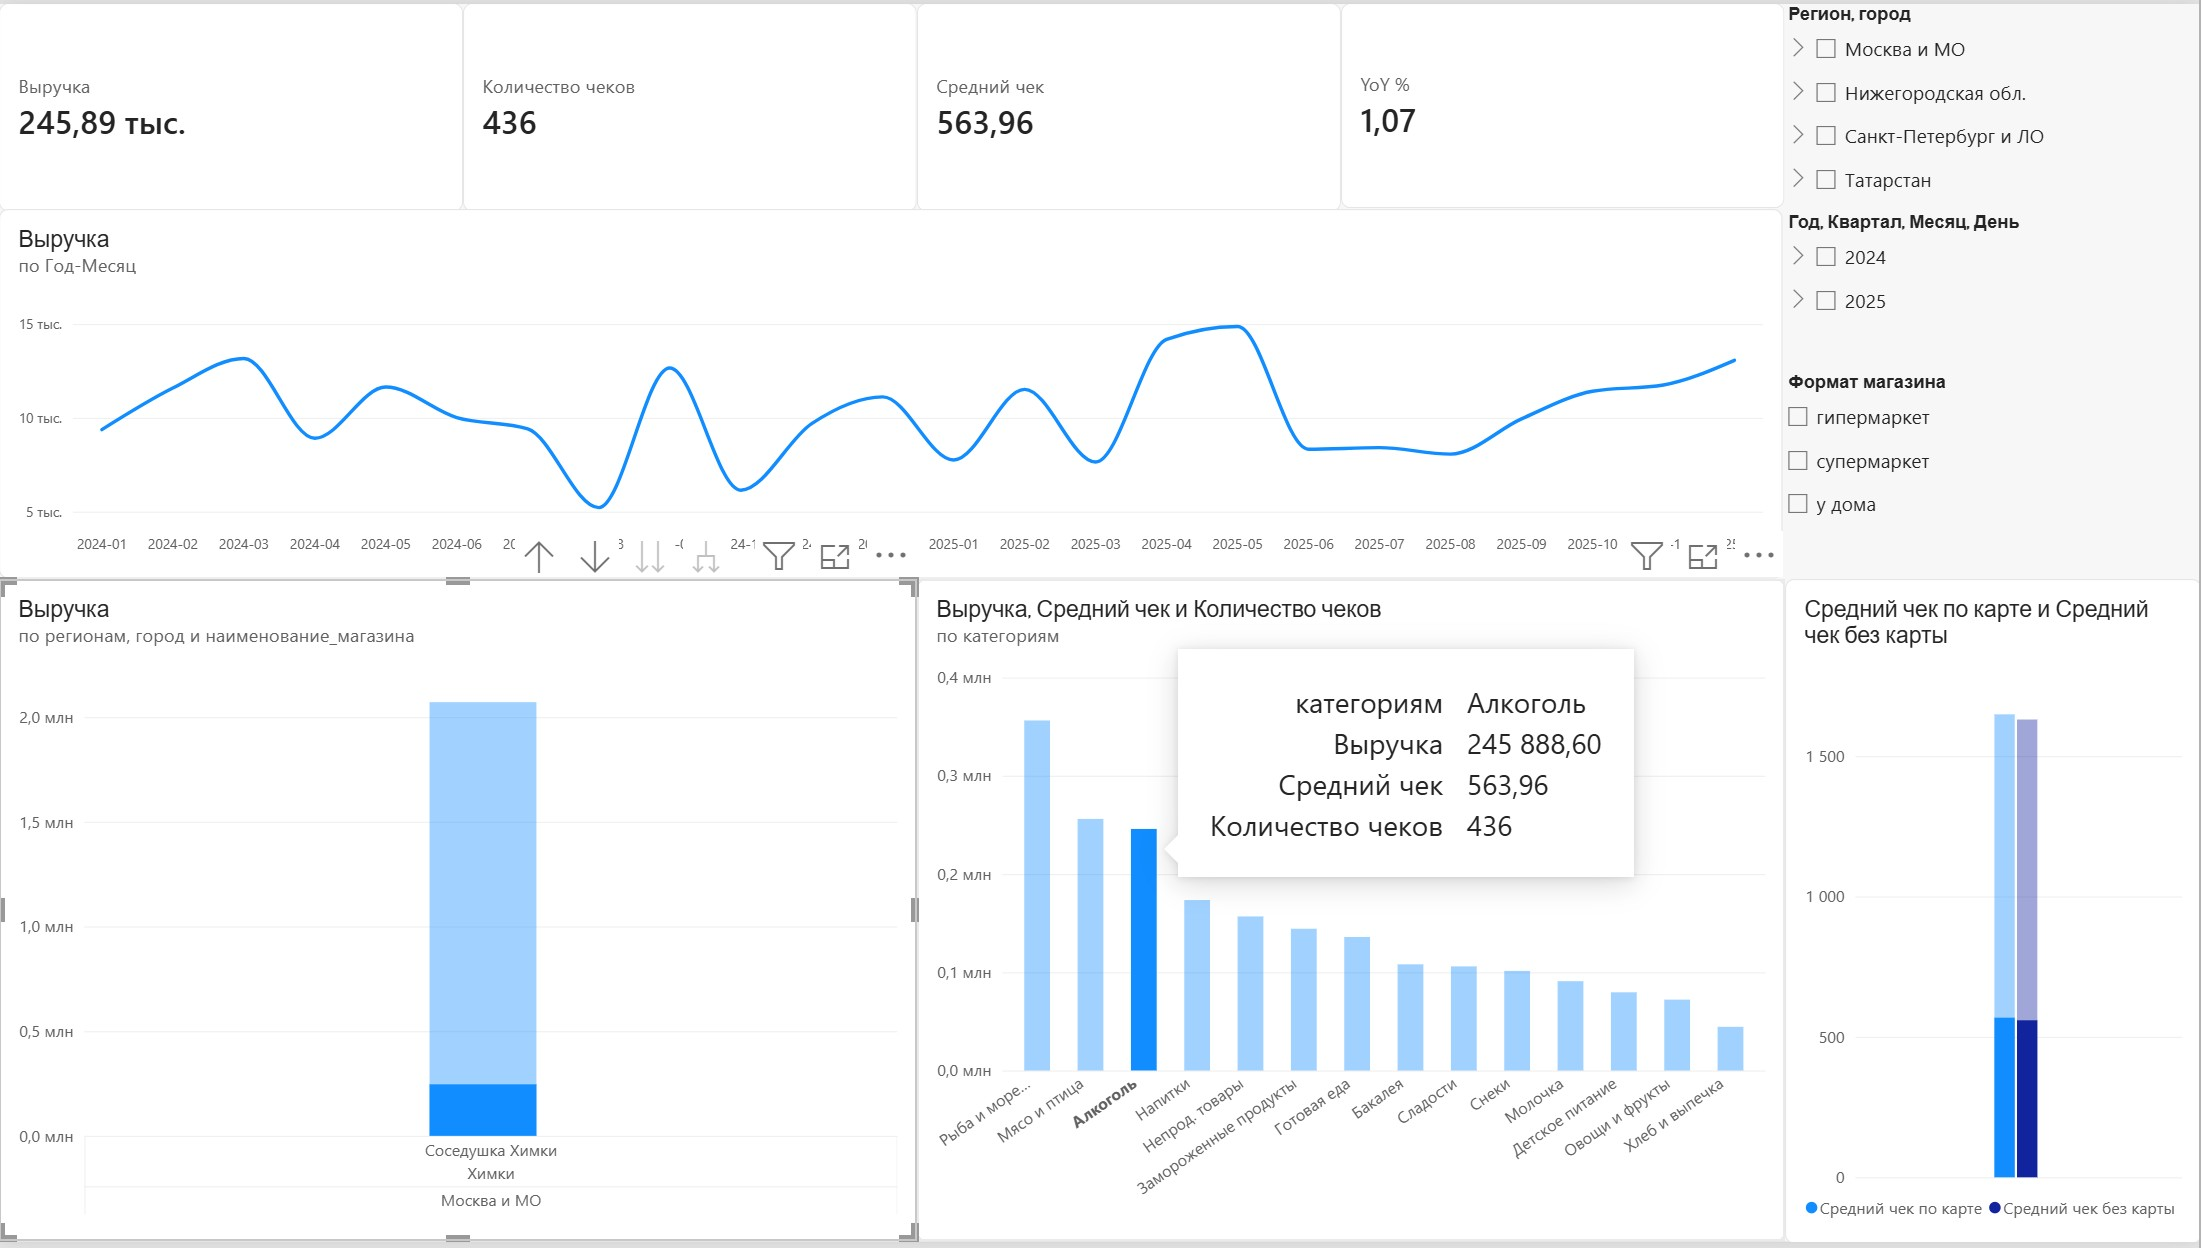

Layout of this report page (visuals, bound fields, positions):
{"tool":"powerbi","page":{"name":"Страница 1","canvas":[1920,1080],"ordinal":0},"visuals":[{"type":"cardVisual","fields":{"Data":["fact_sales.Выручка"]},"box":[0,0,405,182],"z":0},{"type":"cardVisual","fields":{"Data":["fact_sales.Количество чеков"]},"box":[405,0,396,182],"z":1},{"type":"cardVisual","fields":{"Data":["fact_sales.Средний чек"]},"box":[801,0,370,182],"z":2},{"type":"cardVisual","fields":{"Data":["fact_sales.YoY %"]},"box":[1171,0,387.5,179.7],"z":3},{"type":"lineChart","fields":{"Category":["dim_calendar.Год-Месяц"],"Y":["fact_sales.Выручка"]},"box":[0,179.7,1556.3,322.5],"z":4},{"type":"clusteredColumnChart","fields":{"Category":["dim_stores.регион","dim_stores.город","dim_stores.наименование_магазина"],"Y":["fact_sales.Выручка"]},"box":[0,502.2,800.9,577.9],"z":5},{"type":"columnChart","fields":{"Category":["dim_products.категория"],"Y":["fact_sales.Выручка"]},"box":[800.9,502.2,757.6,577.9],"z":8},{"type":"clusteredColumnChart","fields":{"Y":["fact_sales.Средний чек по карте","fact_sales.Средний чек без карты"]},"box":[1558.5,502.2,363.7,580.1],"z":9},{"type":"slicer","fields":{"Values":["dim_stores.регион","dim_stores.город"]},"box":[1554.2,0,365.8,181.8],"z":10},{"type":"slicer","fields":{"Values":["fact_sales.дата_время.Variation.Иерархия дат.Год","fact_sales.дата_время.Variation.Иерархия дат.Квартал","fact_sales.дата_время.Variation.Иерархия дат.Месяц","fact_sales.дата_время.Variation.Иерархия дат.День"]},"box":[1554.2,181.8,365.8,140.7],"z":11},{"type":"slicer","fields":{"Values":["dim_stores.формат_магазина"]},"box":[1554.2,320.4,365.8,181.8],"z":12}]}

Visuals, with their boxes on the page's 1920x1080 design canvas (x1, y1, x2, y2). These are canvas units, not pixel positions in the 2202x1248 screenshot, which may show the page scaled, cropped or inside an application window:
cardVisual - fact_sales.Выручка: <box>0,0,405,182</box>
cardVisual - fact_sales.Количество чеков: <box>405,0,801,182</box>
cardVisual - fact_sales.Средний чек: <box>801,0,1171,182</box>
cardVisual - fact_sales.YoY %: <box>1171,0,1558,180</box>
lineChart - dim_calendar.Год-Месяц x fact_sales.Выручка: <box>0,180,1556,502</box>
clusteredColumnChart - dim_stores.регион x dim_stores.город: <box>0,502,801,1080</box>
columnChart - dim_products.категория x fact_sales.Выручка: <box>801,502,1558,1080</box>
clusteredColumnChart - fact_sales.Средний чек по карте x fact_sales.Средний чек без карты: <box>1558,502,1922,1082</box>
slicer - dim_stores.регион x dim_stores.город: <box>1554,0,1920,182</box>
slicer - fact_sales.дата_время.Variation.Иерархия дат.Год x fact_sales.дата_время.Variation.Иерархия дат.Квартал: <box>1554,182,1920,322</box>
slicer - dim_stores.формат_магазина: <box>1554,320,1920,502</box>
